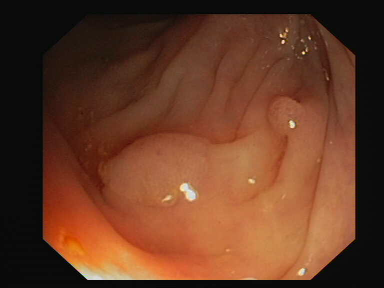polyp: (80, 103, 230, 219), (255, 94, 323, 137)
